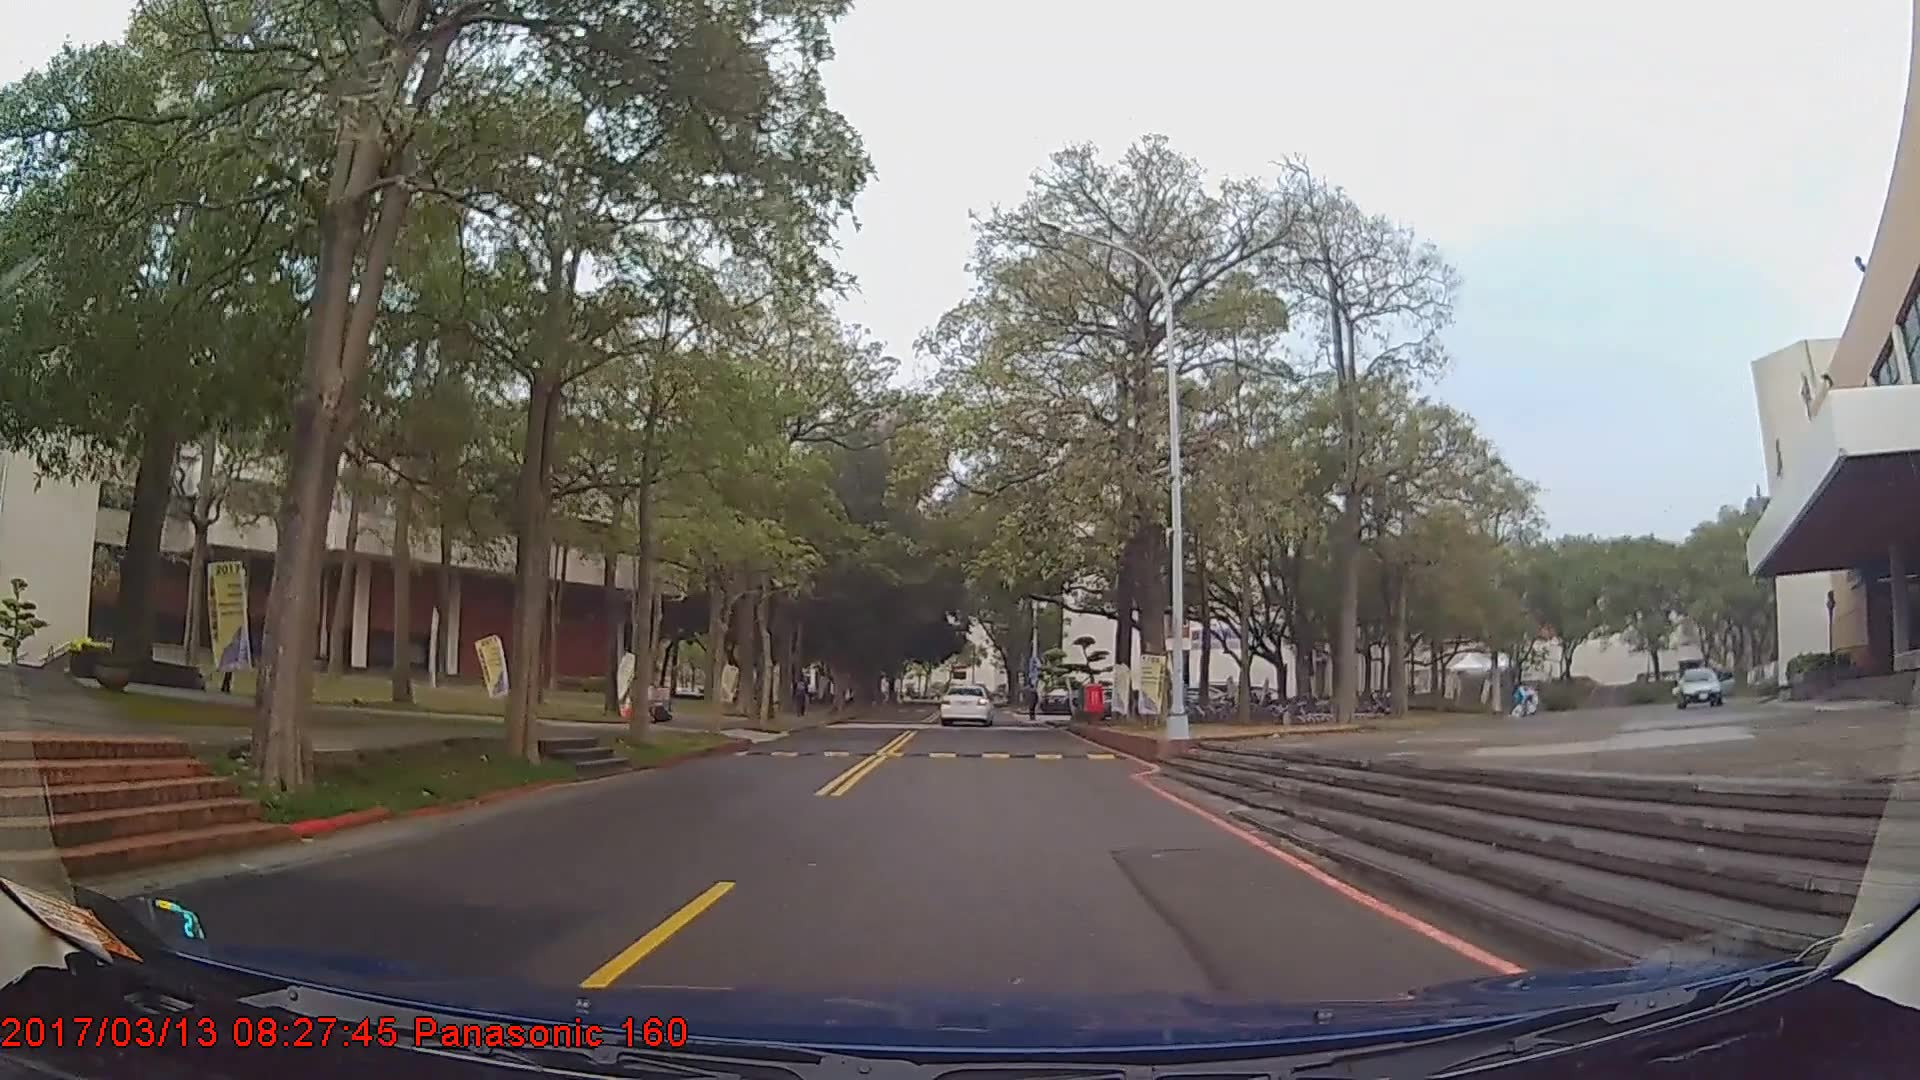pedestrian: (219, 626, 241, 694)
vehicle: (1672, 659, 1739, 705), (939, 684, 993, 727)
